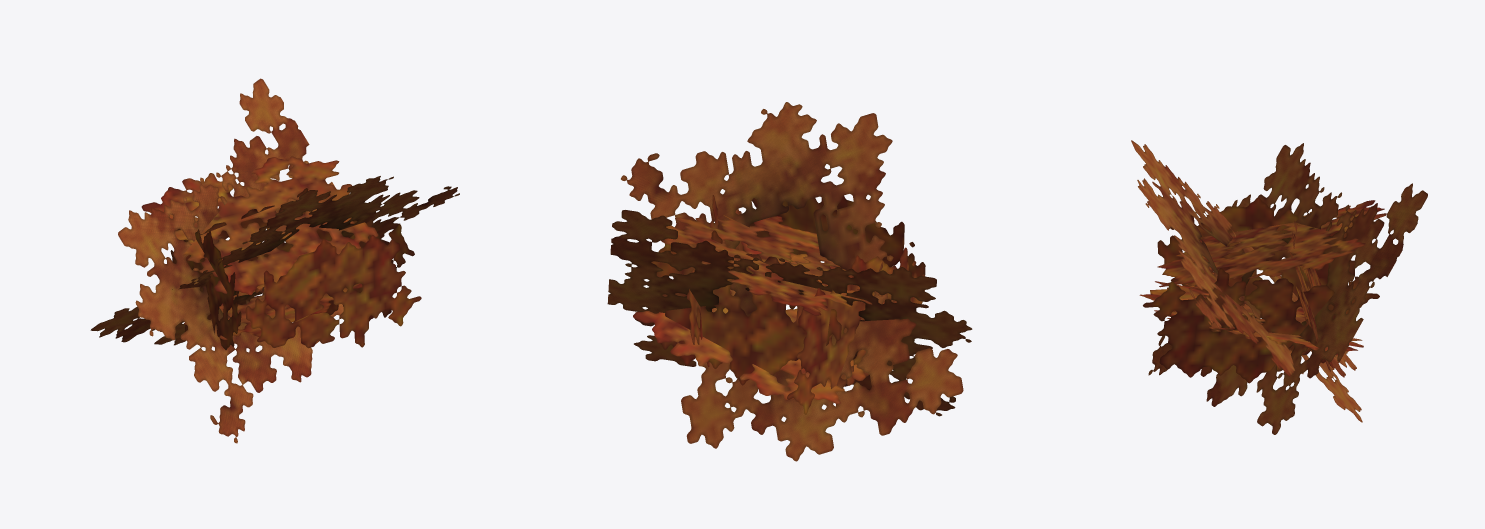
Rendered from maple_leaves_redish_slab_upper.obj.
The picture shows the model from 3 angles, left to right: view 1: azimuth 30°, elevation 25°; view 2: azimuth 150°, elevation 25°; view 3: azimuth 270°, elevation 25°; orthographic projection. The views are drawn at different scales.
Visible parts, largest first — view 1: cube; view 2: cube; view 3: cube.
Part boxes in pixels (x1,y1,x2,y2): cube: (90, 78, 459, 443); cube: (607, 102, 972, 461); cube: (1131, 140, 1427, 434).
Size of the model in its own units: 2.99 by 2.22 by 2.1.
